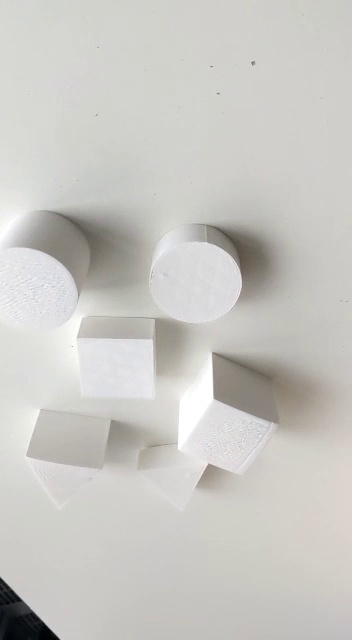Clyinder_short: (148, 223, 244, 325)
Cube: (174, 351, 285, 479)
Cube_short: (75, 312, 161, 406)
Cylinder: (1, 206, 96, 337)
Triangle: (25, 406, 117, 515)
Triangle_short: (137, 435, 220, 519)
